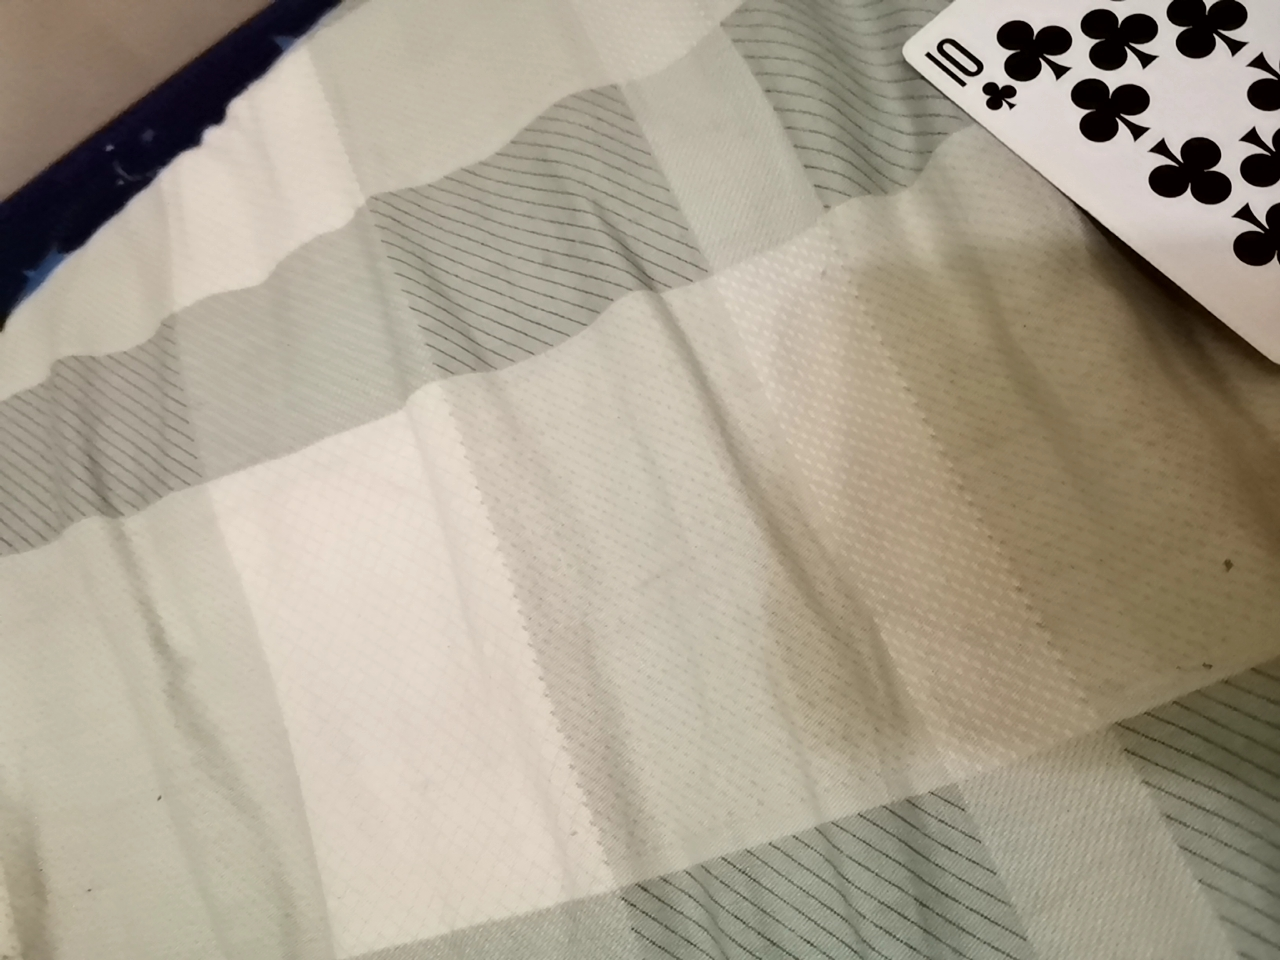mh 10: (883, 0, 1268, 433)
